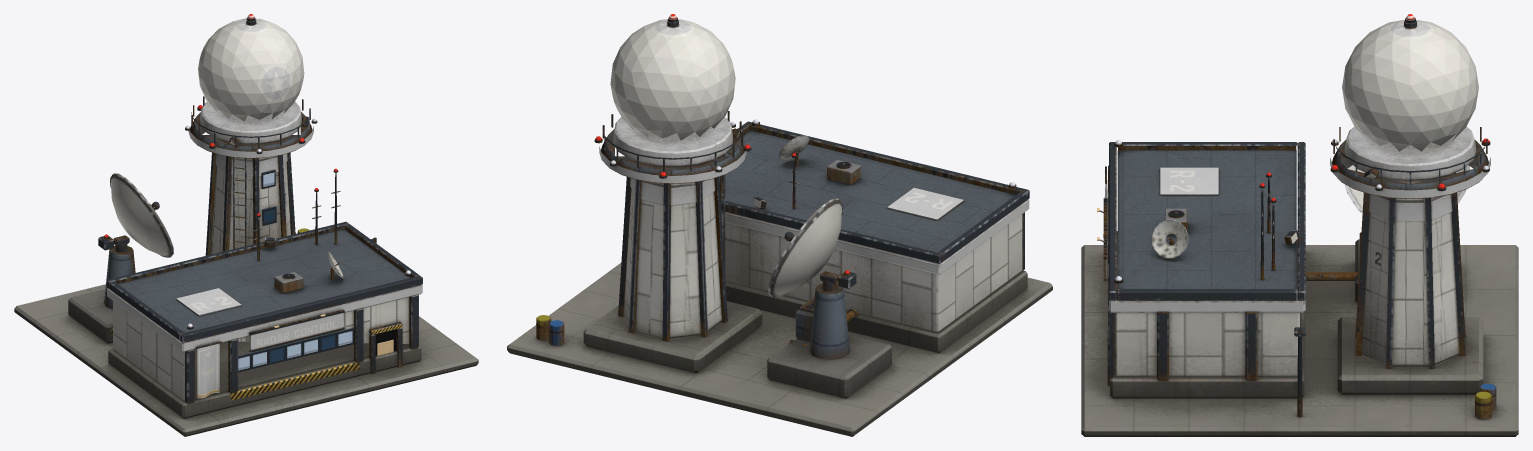
The model's file is dome.allies.glb.
The picture shows the model from 3 angles, left to right: view 1: azimuth 30°, elevation 25°; view 2: azimuth 150°, elevation 25°; view 3: azimuth 270°, elevation 25°; orthographic projection. The views are drawn at different scales.
Parts seen in each view (by area): view 1: root_mesh, dish_mesh; view 2: root_mesh, dish_mesh; view 3: root_mesh, dish_mesh.
Boxes of the visible parts, x1=… form: root_mesh: x1=14, y1=14, x2=478, y2=436; dish_mesh: x1=98, y1=173, x2=173, y2=257; root_mesh: x1=507, y1=14, x2=1052, y2=436; dish_mesh: x1=768, y1=198, x2=856, y2=297; root_mesh: x1=1081, y1=14, x2=1518, y2=436; dish_mesh: x1=1344, y1=165, x2=1469, y2=213.
Size of the model in its own units: 1.98 by 1.81 by 1.98.
Materials: 1 (1 with a texture image).
